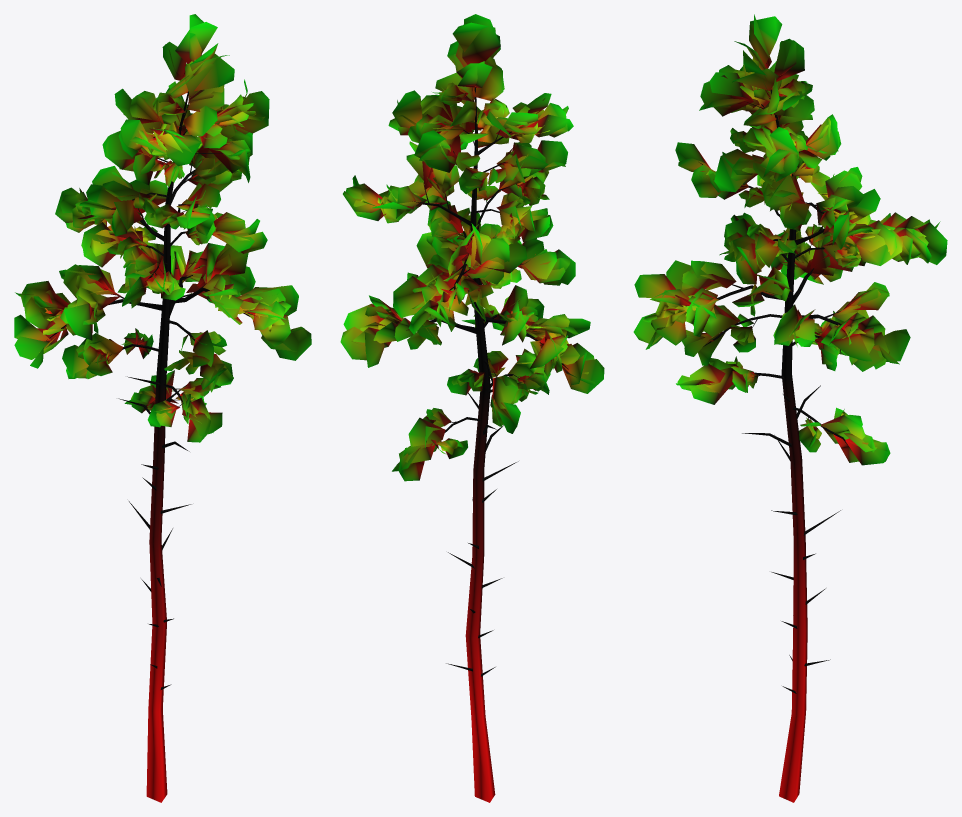
File: Pine_5_LOD_2.fbx
3 views of the same model, side by side, from view 1: azimuth 30°, elevation 25°; view 2: azimuth 150°, elevation 25°; view 3: azimuth 270°, elevation 25° (orthographic). The views are drawn at different scales.
Visible parts, largest first — view 1: Pine_5_LOD_2; view 2: Pine_5_LOD_2; view 3: Pine_5_LOD_2.
Part boxes in pixels (<box>): Pine_5_LOD_2: <box>14,14,311,802</box>; Pine_5_LOD_2: <box>340,14,604,802</box>; Pine_5_LOD_2: <box>633,14,947,802</box>.
Bounding box in the file's own units: 10.07 × 30.98 × 11.12.
